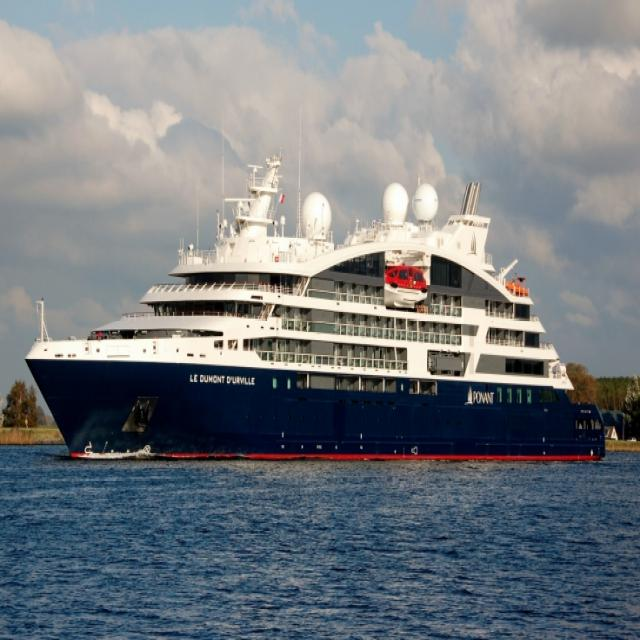cruises: (23, 146, 615, 474)
